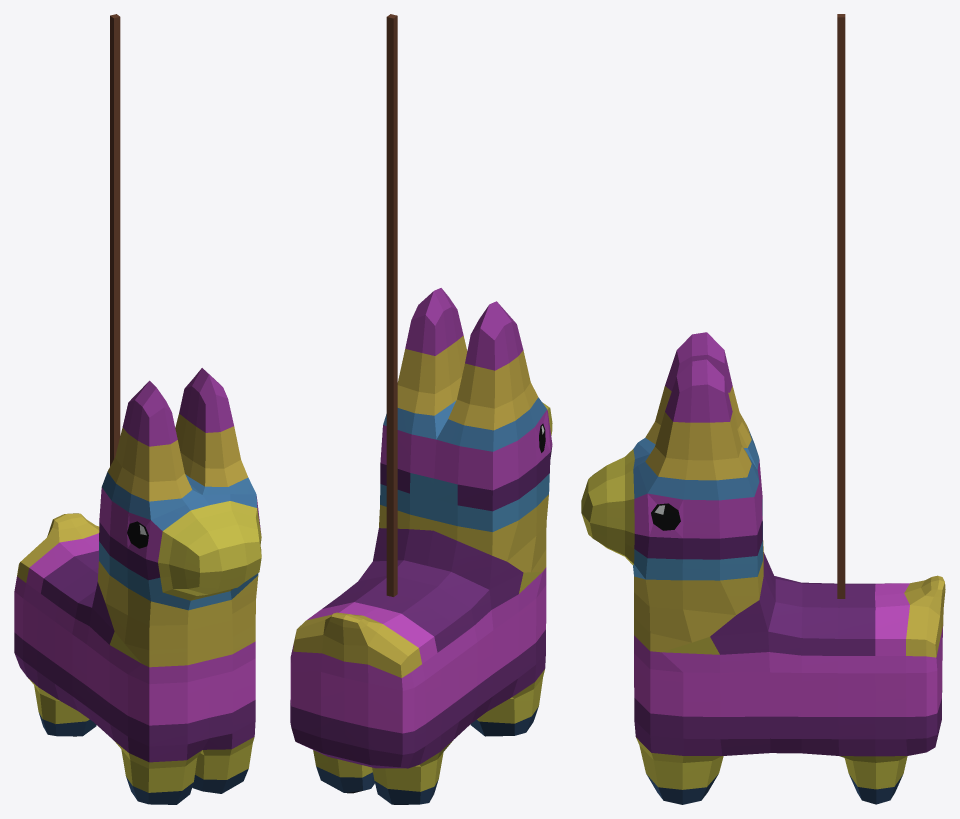
Rendered from piniatVerevka.fbx.
3 views of the same model, side by side, from view 1: azimuth 30°, elevation 25°; view 2: azimuth 150°, elevation 25°; view 3: azimuth 270°, elevation 25° (orthographic). The views are drawn at different scales.
Parts seen in each view (by area): view 1: Cube.024; view 2: Cube.024; view 3: Cube.024.
Boxes of the visible parts, x1,y1,x2,y2 form: Cube.024: (14,14,261,804); Cube.024: (290,14,552,804); Cube.024: (581,14,945,804).
Size of the model in its own units: 42.63 by 242 by 103.
